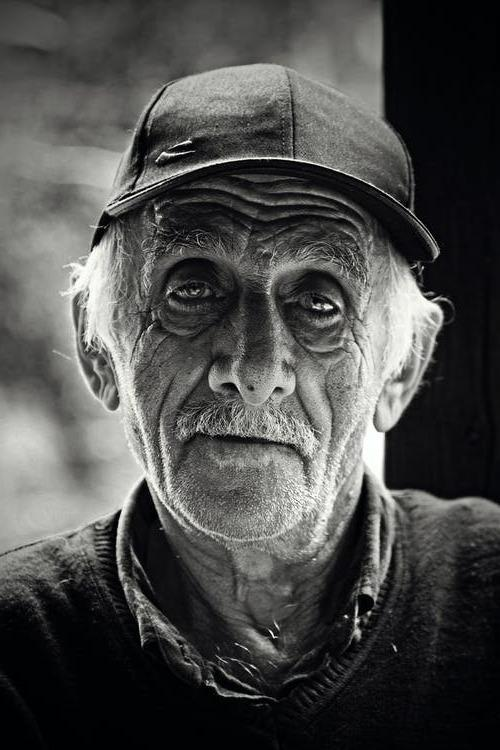Wrinkles: (181, 203, 361, 235), (174, 188, 338, 212), (259, 224, 361, 248), (326, 389, 334, 475), (149, 335, 170, 366), (130, 328, 146, 365), (352, 329, 363, 358)
